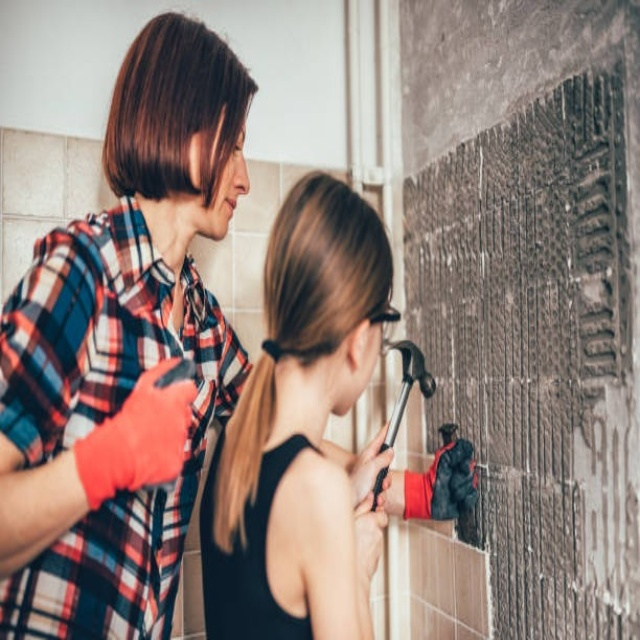Gafas: (367, 304, 398, 358)
Guantes: (74, 358, 201, 509), (424, 438, 479, 523)
Sin_gafas: (228, 118, 248, 166)
Sin_guantes: (349, 425, 396, 515)
Sin_mascara: (208, 188, 241, 235)
